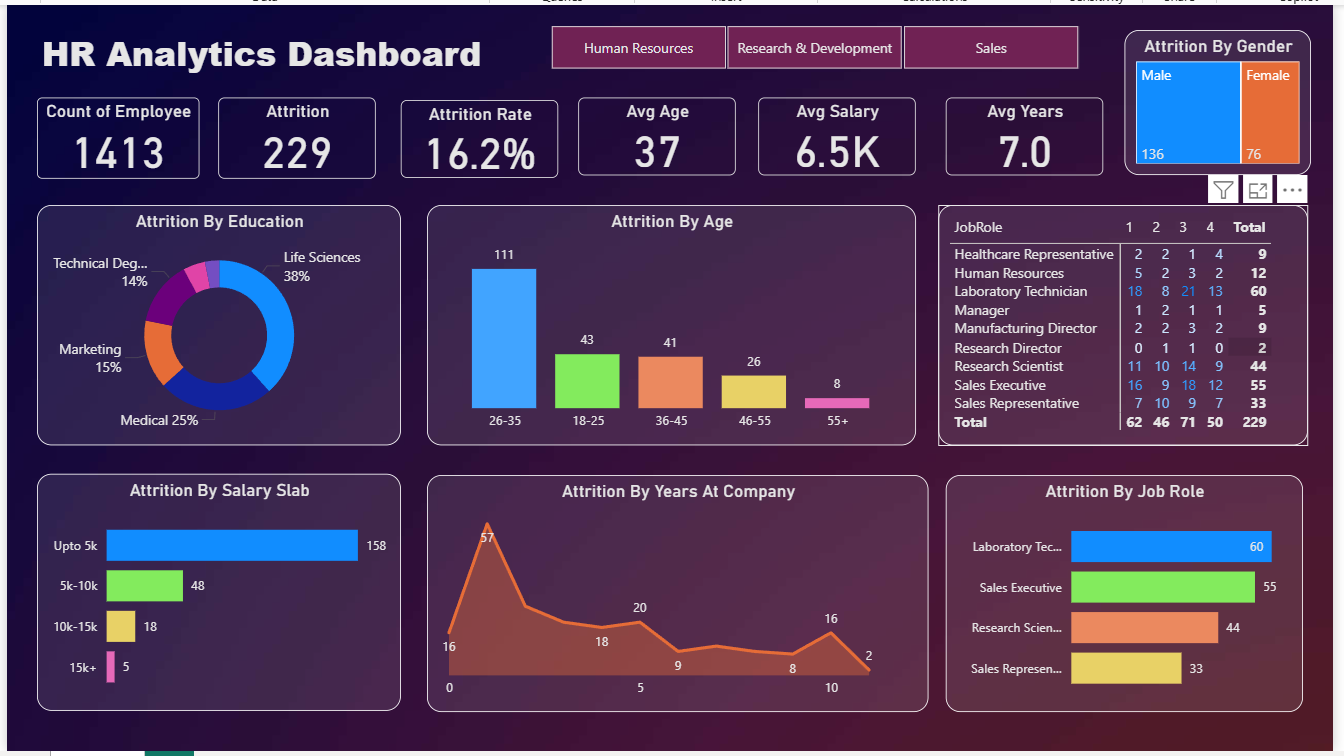

This screenshot's page, from the dashboard's own definition file:
{"tool":"powerbi","page":{"name":"Page 1","canvas":[1280,720],"ordinal":0},"visuals":[{"type":"card","title":"Count of Employee","fields":{"Values":["CountNonNull(HR_Analytics.EmpID)"]},"box":[28.8,89.2,156.4,78.2],"z":0},{"type":"card","title":"Attrition","fields":{"Values":["Sum(HR_Analytics.AttritionCount)"]},"box":[204.5,89.2,152.3,78.2],"z":1000},{"type":"card","title":"Attrition Rate","fields":{"Values":["HR_Analytics.AttritionRate"]},"box":[380.1,91.9,152.3,75.5],"z":2000},{"type":"card","title":"Avg Age","fields":{"Values":["Avg(HR_Analytics.Age)"]},"box":[551.6,89.2,152.3,75.5],"z":3000},{"type":"card","title":"Avg Salary","fields":{"Values":["Avg(HR_Analytics.MonthlyIncome)"]},"box":[724.5,89.2,152.3,75.5],"z":4000},{"type":"card","title":"Avg Years","fields":{"Values":["Avg(HR_Analytics.YearsAtCompany)"]},"box":[905.7,89.2,152.3,75.5],"z":5000},{"type":"donutChart","title":"Attrition By Education","fields":{"Category":["HR_Analytics.EducationField"],"Y":["Sum(HR_Analytics.AttritionCount)"]},"box":[28.8,193.5,351.3,231.9],"z":6000},{"type":"columnChart","title":"Attrition By Age","fields":{"Category":["HR_Analytics.AgeGroup"],"Y":["Sum(HR_Analytics.AttritionCount)"]},"box":[404.8,193.5,472,231.9],"z":7000},{"type":"pivotTable","fields":{"Rows":["HR_Analytics.JobRole"],"Columns":["HR_Analytics.JobSatisfaction"],"Values":["Sum(HR_Analytics.AttritionCount)"]},"box":[898.8,193.5,356.8,231.9],"z":8000},{"type":"clusteredBarChart","title":"Attrition By Salary Slab","fields":{"Category":["HR_Analytics.SalarySlab"],"Y":["Sum(HR_Analytics.AttritionCount)"]},"box":[28.8,452.8,351.3,229.2],"z":9000},{"type":"clusteredBarChart","title":"Attrition By Job Role","fields":{"Category":["HR_Analytics.JobRole"],"Y":["Sum(HR_Analytics.AttritionCount)"]},"box":[905.7,454.2,344.4,229.2],"z":10000},{"type":"areaChart","title":"Attrition By Years At Company","fields":{"Category":["HR_Analytics.YearsAtCompany"],"Y":["Sum(HR_Analytics.AttritionCount)"]},"box":[404.8,454.2,484.4,229.2],"z":11000},{"type":"treemap","title":"Attrition By Gender","fields":{"Group":["HR_Analytics.Gender"],"Values":["Sum(HR_Analytics.AttritionCount)"]},"box":[1078.6,24.7,179.8,140],"z":12000},{"type":"slicer","fields":{"Values":["HR_Analytics.Department"]},"box":[499.5,13.7,558.5,54.9],"z":13000},{"type":"textbox","box":[19.2,19.2,452.8,59],"z":14000}]}

Visuals, with their boxes on the page's 1280x720 design canvas (x1, y1, x2, y2). These are canvas units, not pixel positions in the 1344x756 screenshot, which may show the page scaled, cropped or inside an application window:
"Count of Employee" card: 29:89:185:167
"Attrition" card: 204:89:357:167
"Attrition Rate" card: 380:92:532:167
"Avg Age" card: 552:89:704:165
"Avg Salary" card: 724:89:877:165
"Avg Years" card: 906:89:1058:165
"Attrition By Education" donutChart: 29:194:380:425
"Attrition By Age" columnChart: 405:194:877:425
pivotTable - HR_Analytics.JobRole x HR_Analytics.JobSatisfaction: 899:194:1256:425
"Attrition By Salary Slab" clusteredBarChart: 29:453:380:682
"Attrition By Job Role" clusteredBarChart: 906:454:1250:683
"Attrition By Years At Company" areaChart: 405:454:889:683
"Attrition By Gender" treemap: 1079:25:1258:165
slicer - HR_Analytics.Department: 500:14:1058:69
textbox: 19:19:472:78
